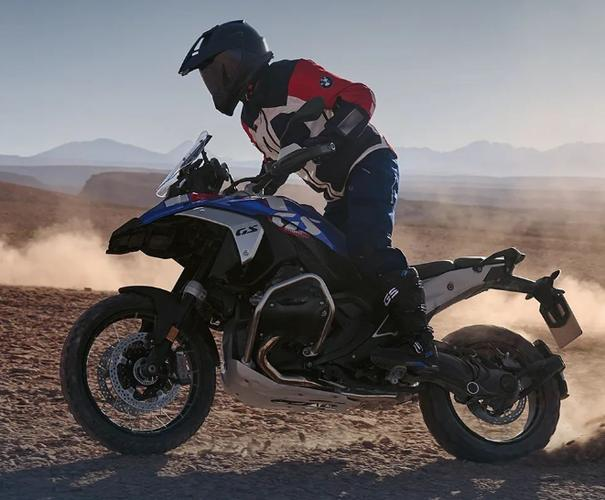摩托车: (40, 172, 585, 470)
